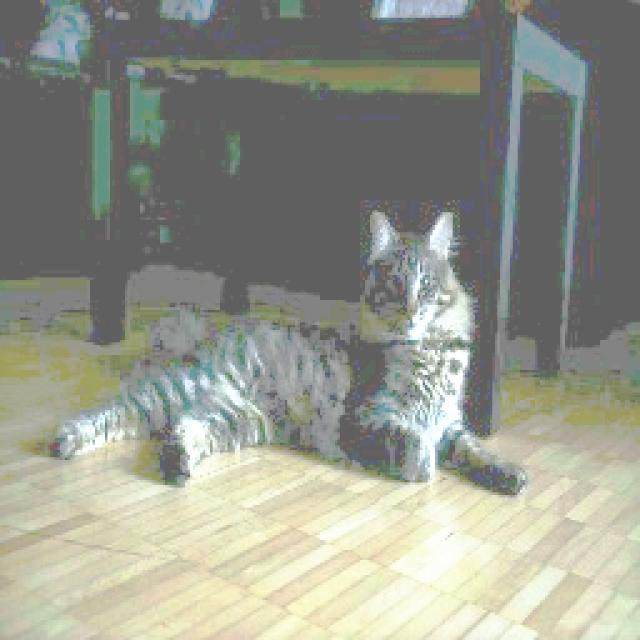cat: (49, 205, 536, 512)
